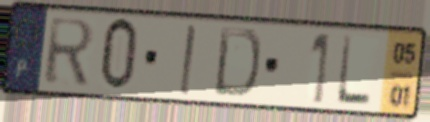0: (98, 15, 142, 97)
1: (307, 31, 333, 106)
D: (210, 24, 263, 101)
I: (177, 22, 198, 98)
L: (333, 32, 375, 109)
R: (42, 15, 98, 87)
